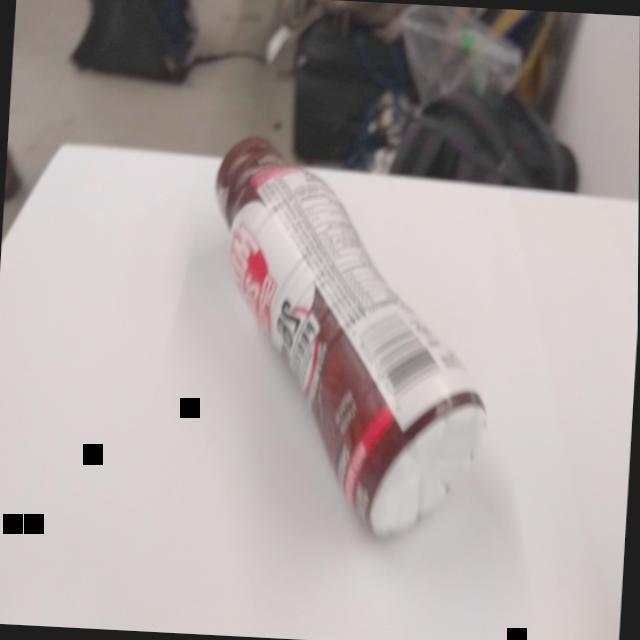chocolate_drink: (192, 128, 509, 555)
